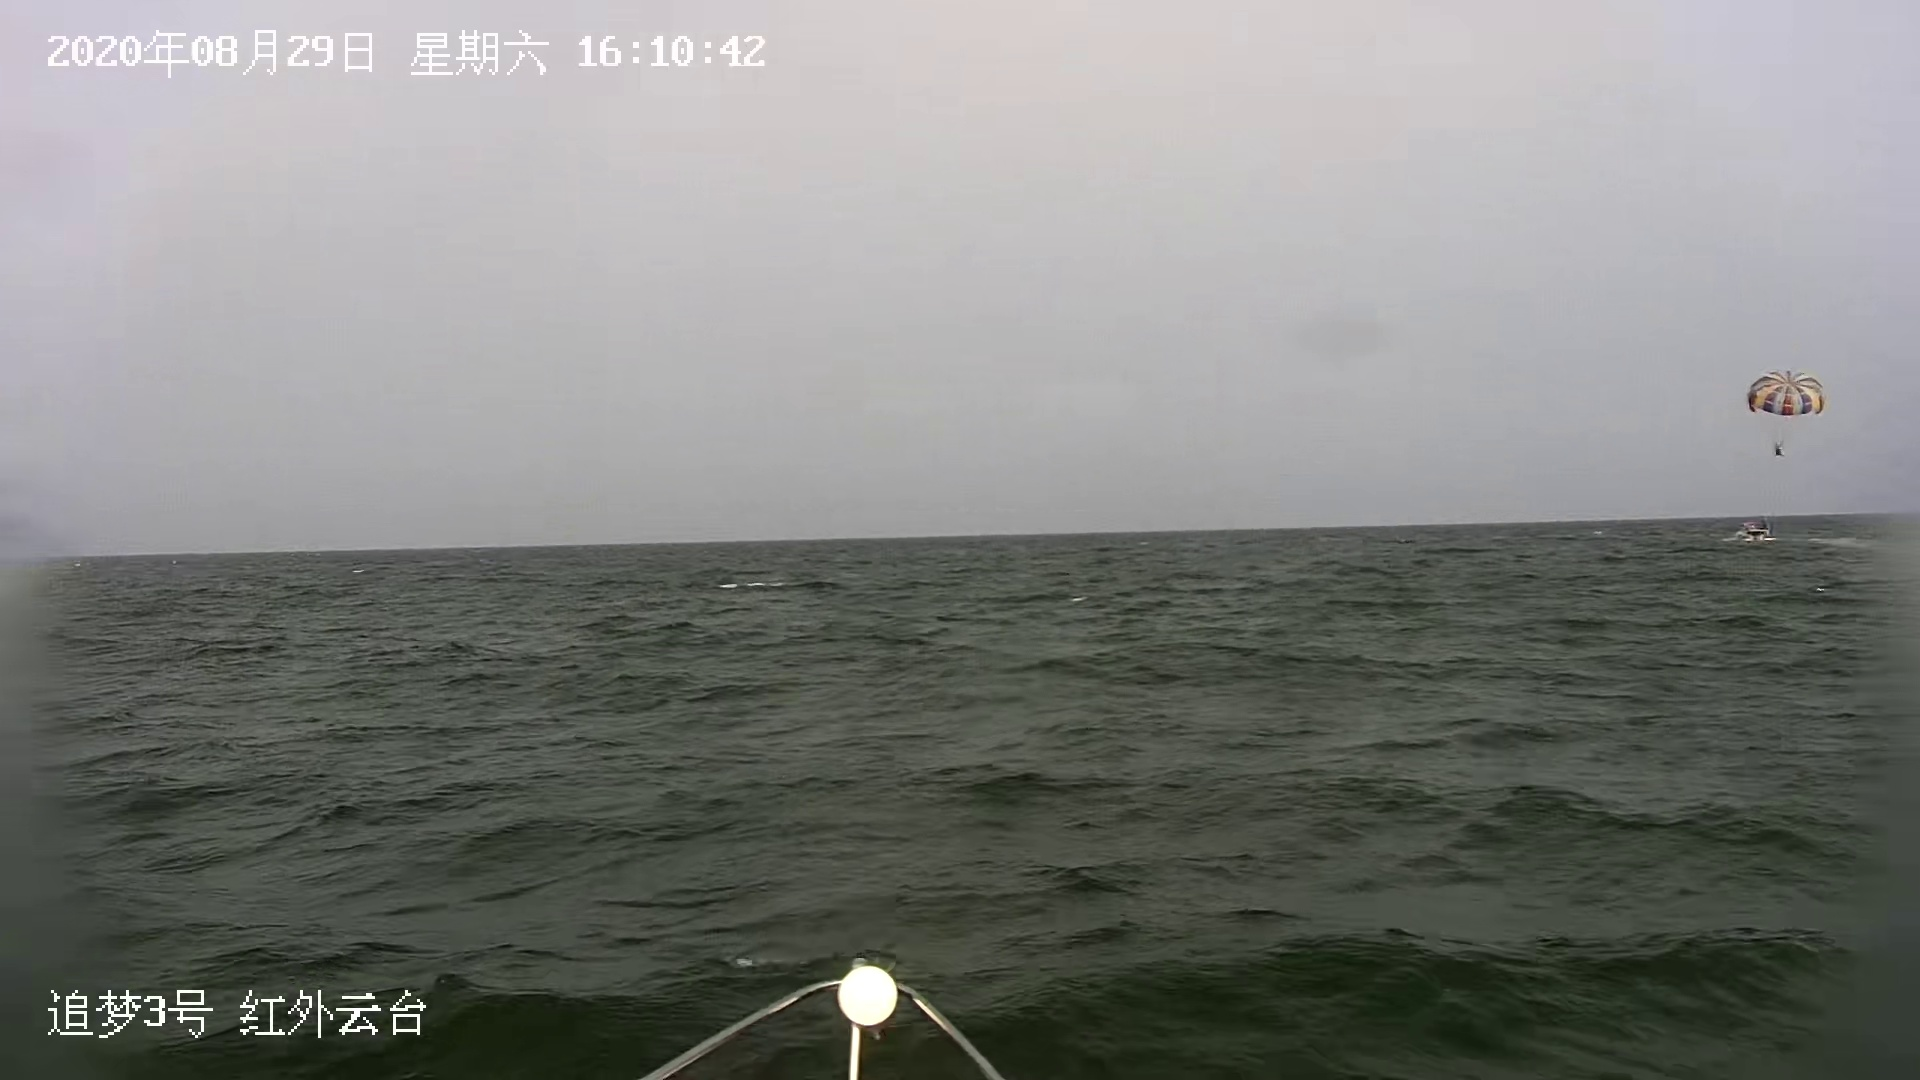barrier: (1731, 512, 1774, 555)
